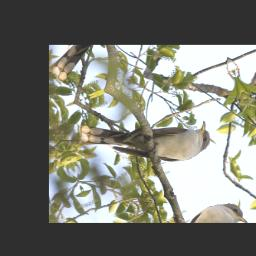Cuckoo: (75, 84, 217, 193)
